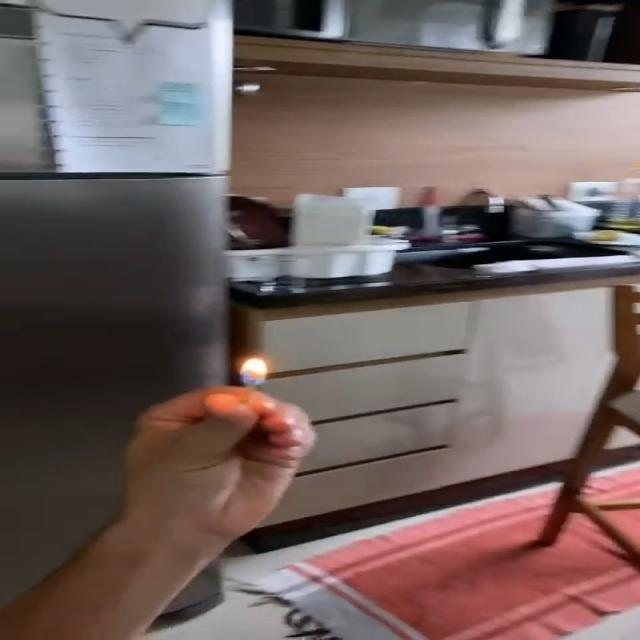fire: (237, 353, 268, 390)
